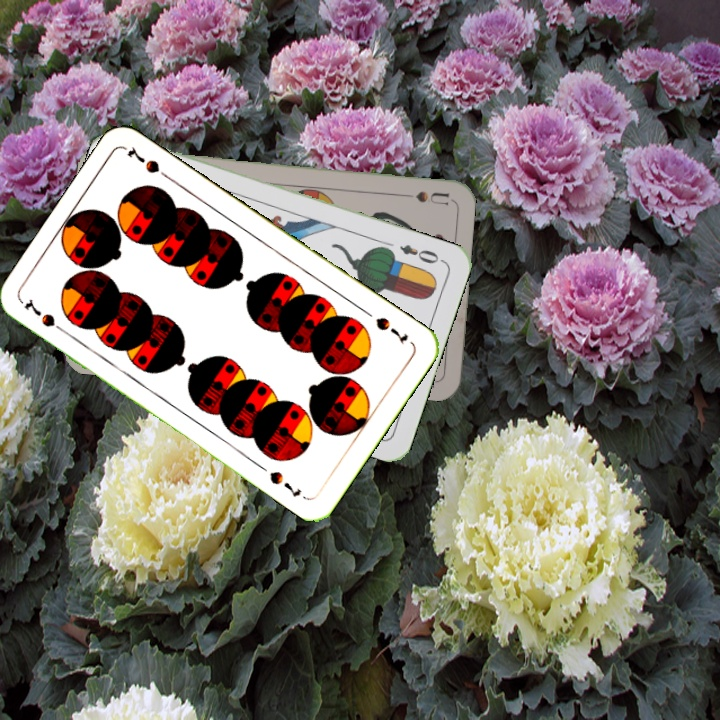EO: (395, 240, 446, 267)
S7: (20, 294, 71, 337), (371, 313, 411, 346)
SU: (391, 187, 450, 207)
